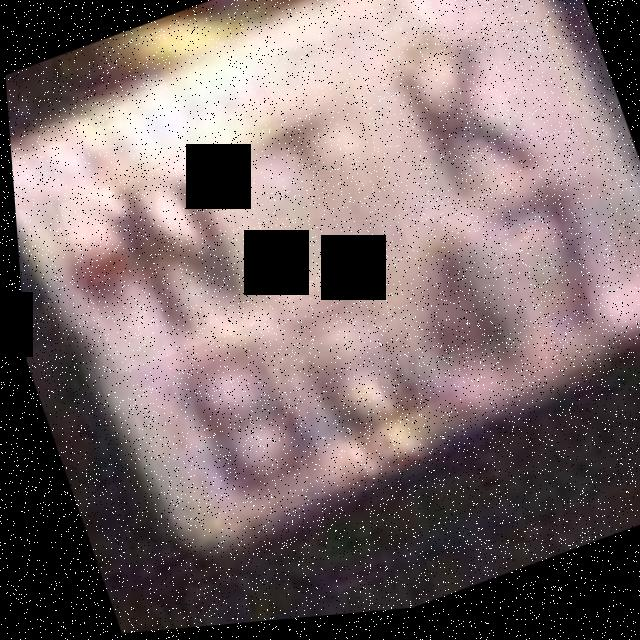4: (362, 203, 540, 416)
7: (449, 160, 625, 370)
8: (149, 305, 341, 539)
N: (51, 150, 265, 379)
R: (359, 11, 546, 232)
T: (220, 81, 404, 293)
